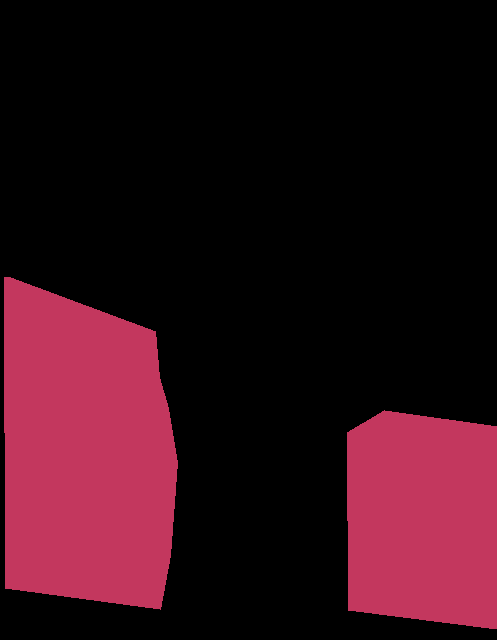Airplane: (4, 277, 497, 630)
